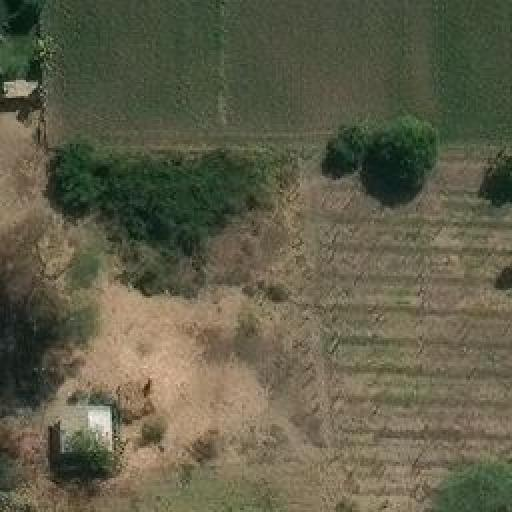manzanas: (57, 405, 116, 464)
